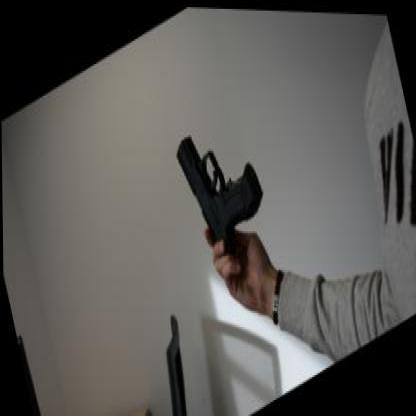pistol: (172, 96, 271, 274)
